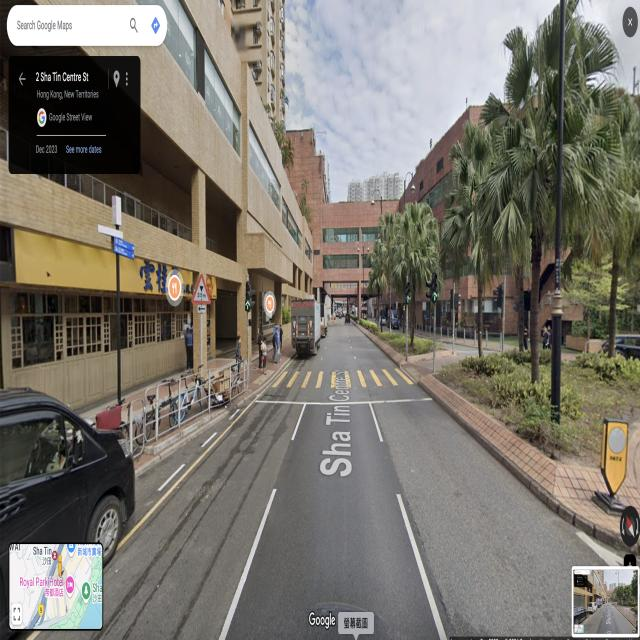Warning-Sign: (191, 274, 211, 304)
